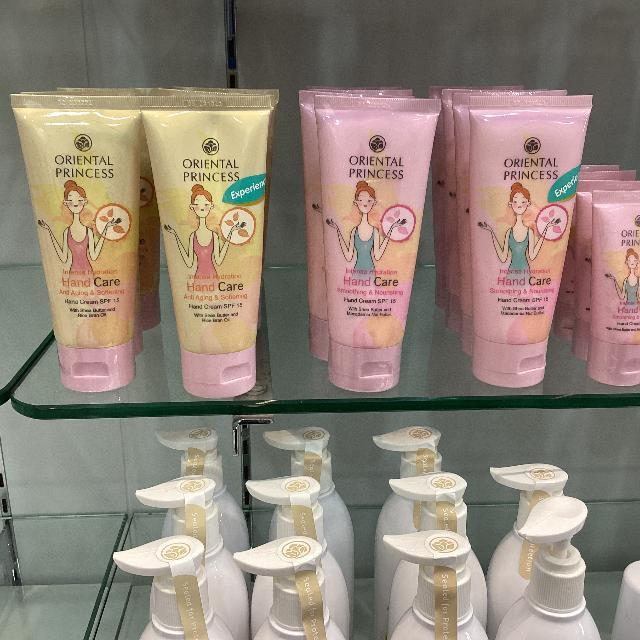Squeeze Tube: (0, 49, 640, 403), (4, 90, 148, 407), (134, 82, 276, 396), (309, 88, 446, 398), (459, 83, 595, 394)
